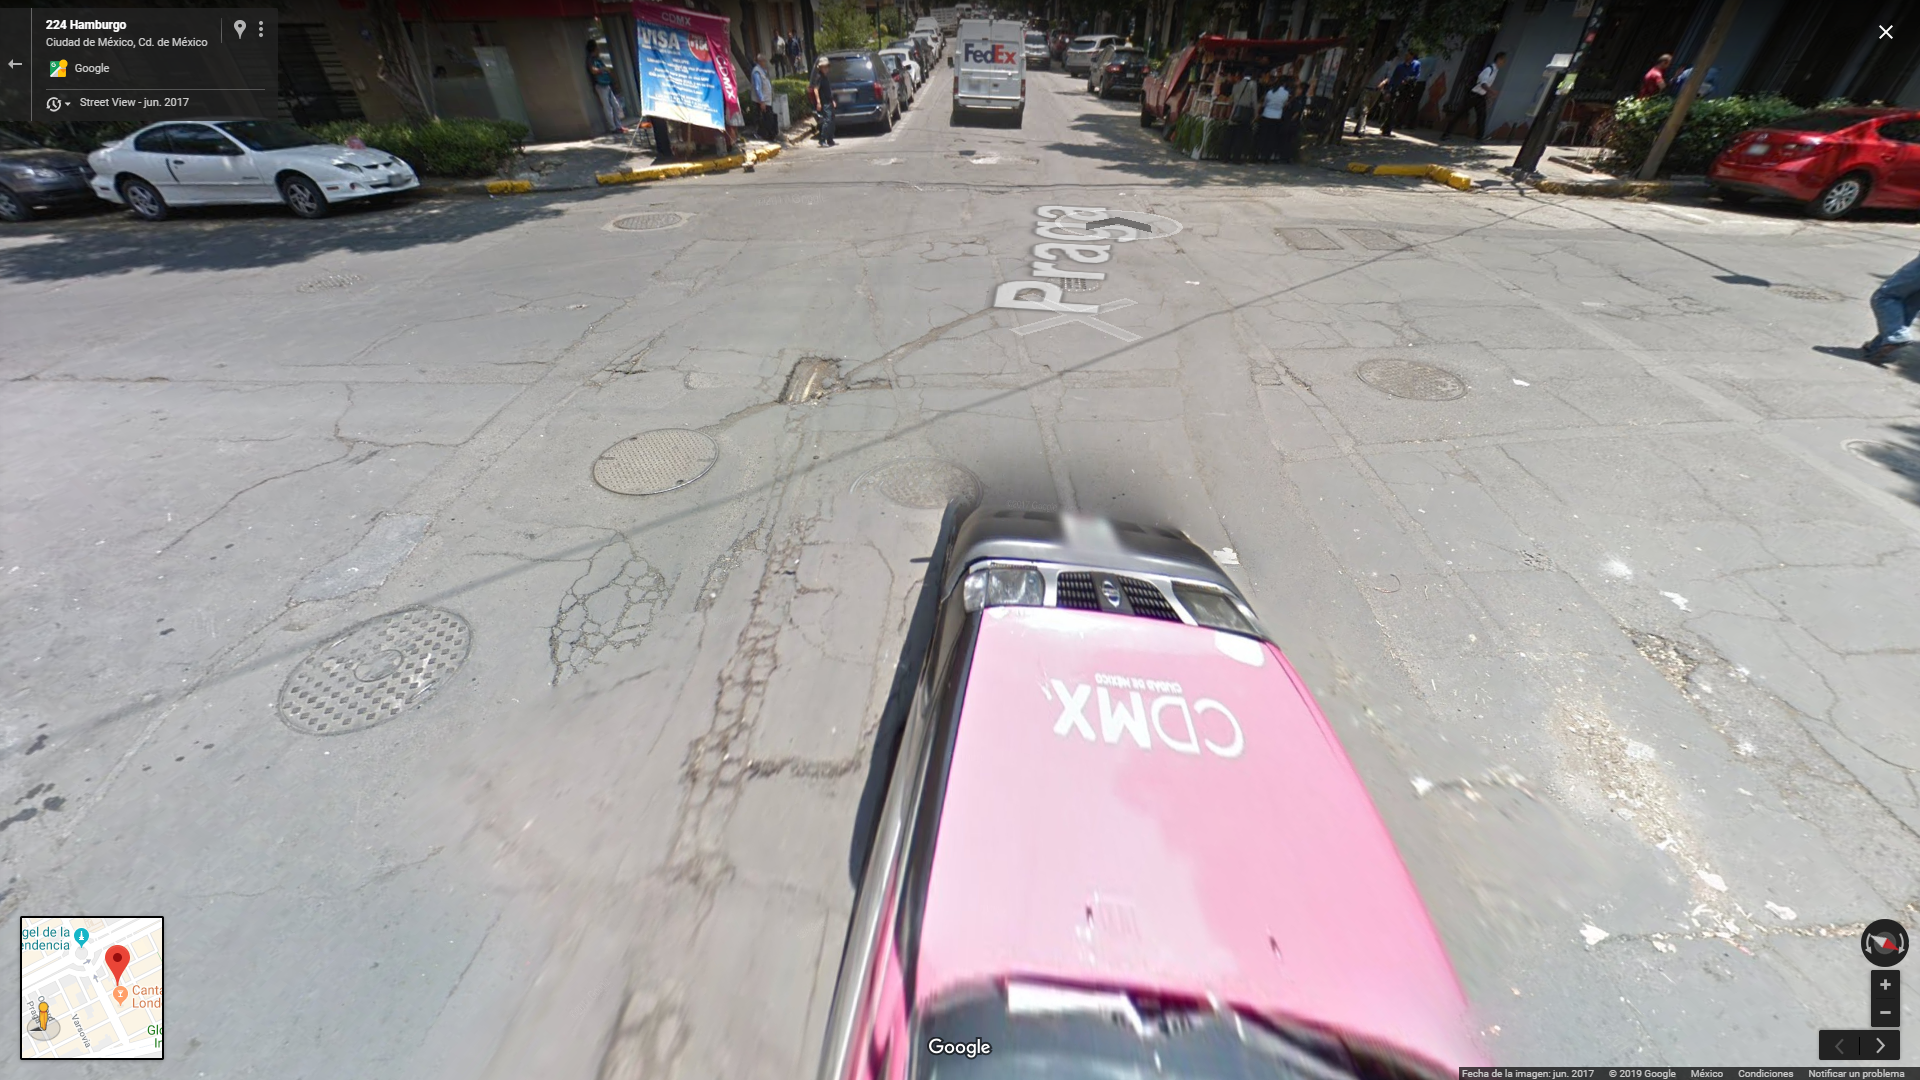pothole: (770, 353, 855, 415), (965, 146, 1055, 174)
